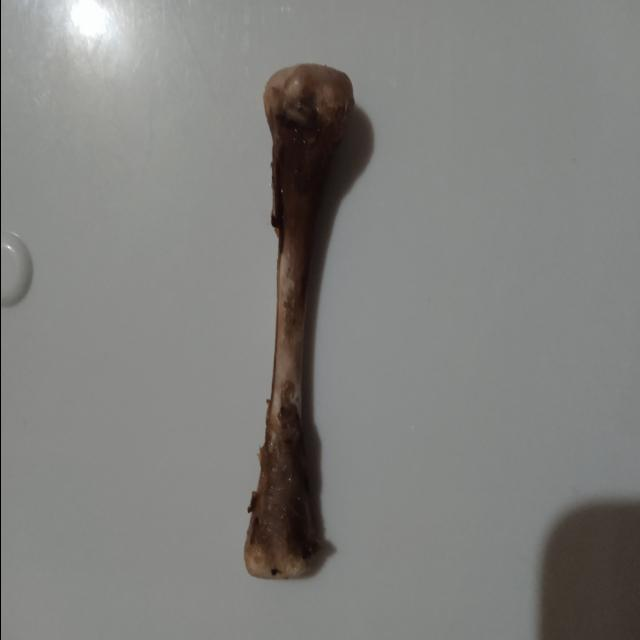bone: (233, 55, 361, 586)
